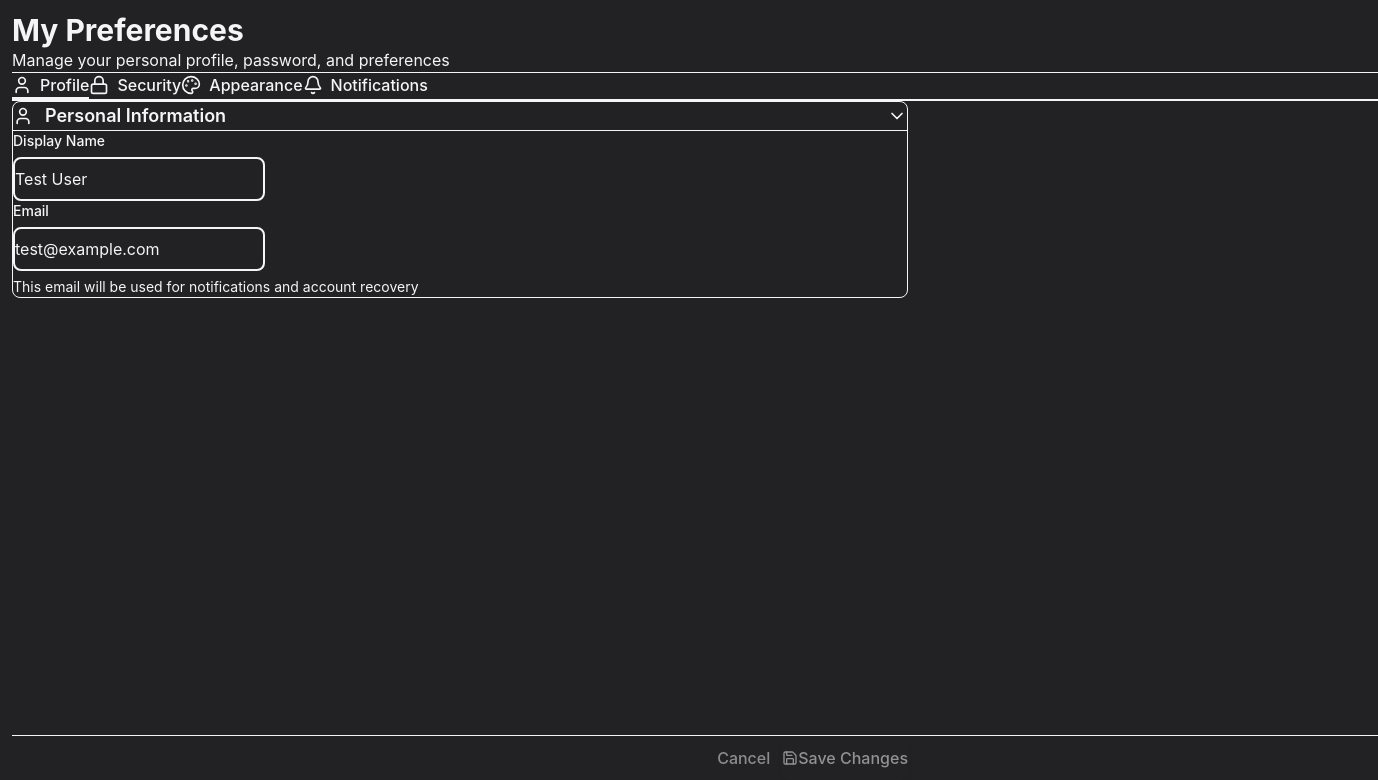
Test case: MyPreferencesPage › Tab Navigation (Requirement 4.1) › should switch to Appearance tab when clicked
Click the tab "Appearance" at (242, 86), box x1=181 y1=73 x2=302 y2=99
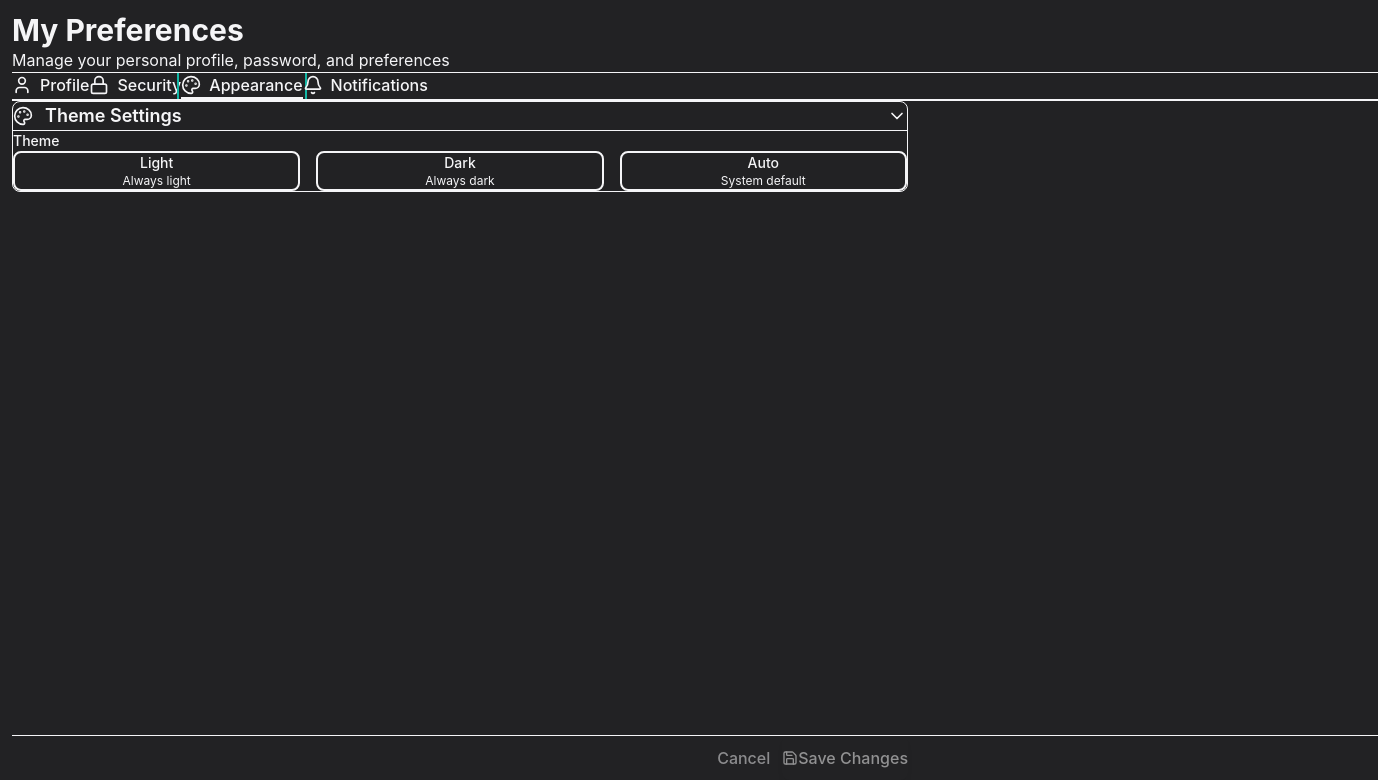
Expected: the heading "Theme Settings" is shown, x1=45 y1=102 x2=182 y2=130
